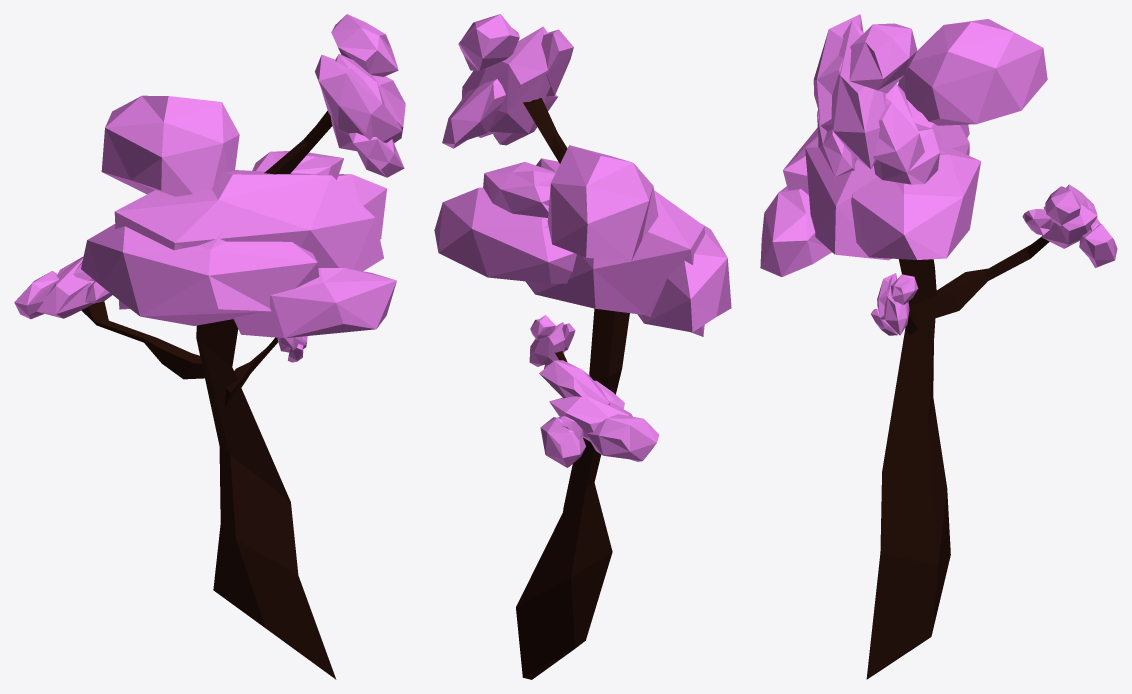
Rendered from sakura_1.FBX.
The picture shows the model from 3 angles, left to right: view 1: azimuth 30°, elevation 25°; view 2: azimuth 150°, elevation 25°; view 3: azimuth 270°, elevation 25°; orthographic projection. The views are drawn at different scales.
Visible parts, largest first — view 1: Box013; view 2: Box013; view 3: Box013.
Boxes of the visible parts, x1,y1,x2,y2 form: Box013: (14, 14, 405, 679); Box013: (434, 14, 731, 679); Box013: (760, 14, 1117, 679).
Bounding box in the file's own units: 3.5 × 7.35 × 3.56.
